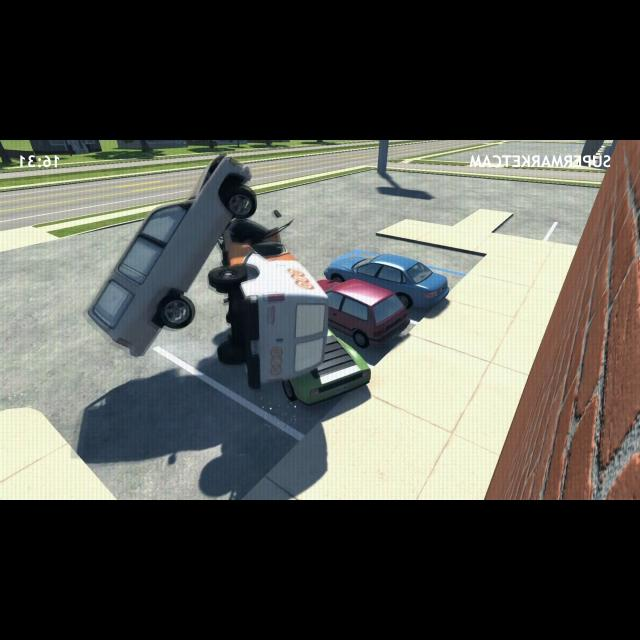accident: (86, 155, 332, 390)
